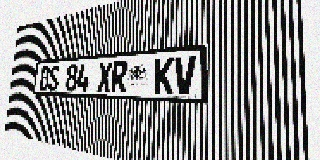4: (76, 63, 90, 92)
8: (65, 64, 78, 91)
B: (39, 66, 50, 91)
K: (154, 57, 174, 94)
R: (111, 61, 128, 93)
S: (48, 65, 60, 91)
V: (174, 56, 196, 95)
X: (97, 62, 113, 92)
